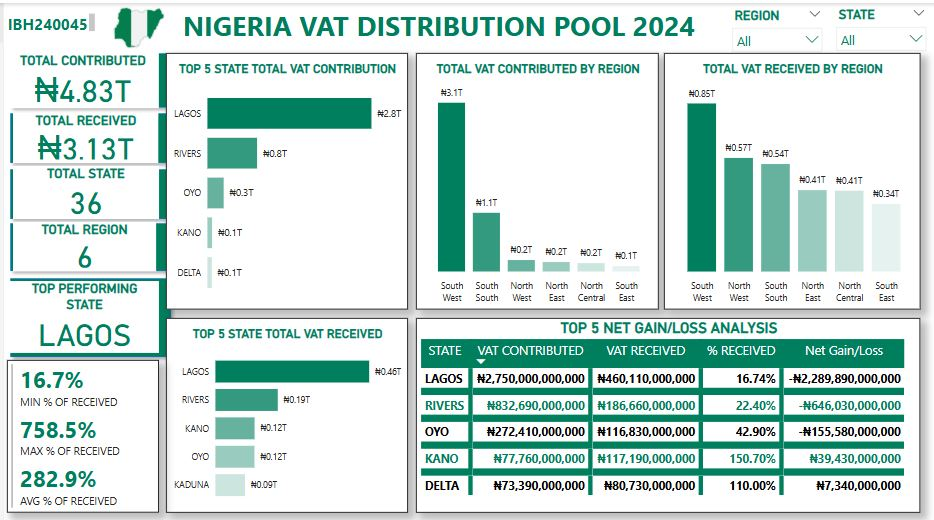

What the dashboard file says about the page in this screenshot:
{"tool":"powerbi","page":{"name":"Page 1","canvas":[1280,720],"ordinal":0},"visuals":[{"type":"image","box":[129.6,0,110.9,67.7],"z":0},{"type":"group","id":"g1","title":"Group 1","box":[0,60.5,239,92.2],"z":1000},{"type":"textbox","box":[240.5,0,751.7,67.7],"z":2000},{"type":"slicer","fields":{"Values":["STATE VAT POOL.STATE"]},"box":[1136.2,0,144,69.1],"z":3000},{"type":"slicer","fields":{"Values":["STATE VAT POOL.REGION"]},"box":[992.2,1.4,144,67.7],"z":4000},{"type":"group","id":"g2","title":"Group 2","box":[0,60.5,239,92.2],"z":4001,"group":"g1"},{"type":"shape","box":[0,60.5,239,92.2],"z":5000,"group":"g2"},{"type":"group","id":"g3","title":"Group 3","box":[0,142.6,239,86.4],"z":5000},{"type":"shape","box":[0,142.6,238.2,85.9],"z":5000,"group":"g3"},{"type":"card","title":"TOTAL CONTRIBUTED","fields":{"Values":["Sum(STATE VAT POOL.CONTRIBUTED)"]},"box":[10.3,69.2,202.9,72.9],"z":5500,"group":"g2"},{"type":"card","title":"TOTAL RECEIVED","fields":{"Values":["Sum(STATE VAT POOL.RECEIVED)"]},"box":[12,150.8,200.5,69.4],"z":6000,"group":"g3"},{"type":"group","id":"g4","title":"Group 4","box":[0,220.3,239,86.4],"z":6000},{"type":"group","id":"g5","title":"Group 5","box":[0,295.2,236.2,83.5],"z":7000},{"type":"shape","box":[0,295.2,235.1,83.1],"z":7000,"group":"g5"},{"type":"shape","box":[0,220.3,238.5,86],"z":8000,"group":"g4"},{"type":"card","title":"TOTAL REGION","fields":{"Values":["Count(STATE VAT POOL.REGION)"]},"box":[12.4,302.4,196.8,68],"z":8000,"group":"g5"},{"type":"group","id":"g6","title":"Group 6","box":[0,370.1,239,125.3],"z":8000},{"type":"shape","box":[0,370.1,239,125.9],"z":8000,"group":"g6"},{"type":"textbox","box":[0,10.1,129.6,36],"z":9000},{"type":"card","title":"TOTAL STATE","fields":{"Values":["Count(STATE VAT POOL.STATE)"]},"box":[12,224.2,200.8,73],"z":9000,"group":"g4"},{"type":"card","title":"TOP PERFORMING STATE","fields":{"Values":["Min(STATE VAT POOL.STATE)"]},"box":[8.5,383,205,98.7],"z":9000,"group":"g6"},{"type":"clusteredBarChart","title":"TOP 5 STATE TOTAL VAT CONTRIBUTION","fields":{"Category":["STATE VAT POOL.STATE"],"Y":["Sum(STATE VAT POOL.CONTRIBUTED)"]},"box":[223.2,69.1,332.6,352.8],"z":10000},{"type":"clusteredBarChart","title":"TOP 5 STATE TOTAL VAT RECEIVED","fields":{"Y":["Sum(STATE VAT POOL.RECEIVED)"],"Category":["STATE VAT POOL.STATE"]},"box":[223.2,433.4,332.6,267.8],"z":11000},{"type":"clusteredColumnChart","title":"TOTAL VAT CONTRIBUTED BY REGION","fields":{"Category":["STATE VAT POOL.REGION"],"Y":["Sum(STATE VAT POOL.CONTRIBUTED)"]},"box":[567.4,69.1,334.1,352.8],"z":12000},{"type":"clusteredColumnChart","title":"TOTAL VAT RECEIVED BY REGION","fields":{"Y":["Sum(STATE VAT POOL.RECEIVED)"],"Category":["STATE VAT POOL.REGION"]},"box":[908.6,69.1,352.8,352.8],"z":13000},{"type":"multiRowCard","fields":{"Values":["Min(STATE VAT POOL.% OF RECEIVED)","STATE VAT POOL.MAX VAT %","Avg(STATE VAT POOL.% OF RECEIVED)"]},"box":[4.3,491,208.8,210.2],"z":14000},{"type":"tableEx","title":"TOP 5 NET GAIN/LOSS ANALYSIS","fields":{"Values":["STATE VAT POOL.STATE","Sum(STATE VAT POOL.CONTRIBUTED)","Sum(STATE VAT POOL.RECEIVED)","Sum(STATE VAT POOL.% OF RECEIVED)","Sum(STATE VAT POOL.Net Gain/Loss)"]},"box":[567.4,433.4,694.1,267.8],"z":14001}]}

Visuals, with their boxes in screenshot pixels (x1, y1, x2, y2), scaled from the page's 1280x720 canvas onto the 934x520 screenshot:
image: crop(95, 0, 175, 49)
"Group 1" group: crop(0, 44, 174, 110)
textbox: crop(175, 0, 724, 49)
slicer - STATE VAT POOL.STATE: crop(829, 0, 933, 50)
slicer - STATE VAT POOL.REGION: crop(724, 1, 829, 50)
"Group 2" group: crop(0, 44, 174, 110)
shape: crop(0, 44, 174, 110)
"Group 3" group: crop(0, 103, 174, 165)
shape: crop(0, 103, 174, 165)
"TOTAL CONTRIBUTED" card: crop(8, 50, 156, 103)
"TOTAL RECEIVED" card: crop(9, 109, 155, 159)
"Group 4" group: crop(0, 159, 174, 222)
"Group 5" group: crop(0, 213, 172, 274)
shape: crop(0, 213, 172, 273)
shape: crop(0, 159, 174, 221)
"TOTAL REGION" card: crop(9, 218, 153, 268)
"Group 6" group: crop(0, 267, 174, 358)
shape: crop(0, 267, 174, 358)
textbox: crop(0, 7, 95, 33)
"TOTAL STATE" card: crop(9, 162, 155, 215)
"TOP PERFORMING STATE" card: crop(6, 277, 156, 348)
"TOP 5 STATE TOTAL VAT CONTRIBUTION" clusteredBarChart: crop(163, 50, 406, 305)
"TOP 5 STATE TOTAL VAT RECEIVED" clusteredBarChart: crop(163, 313, 406, 506)
"TOTAL VAT CONTRIBUTED BY REGION" clusteredColumnChart: crop(414, 50, 658, 305)
"TOTAL VAT RECEIVED BY REGION" clusteredColumnChart: crop(663, 50, 920, 305)
multiRowCard - Min(STATE VAT POOL.% OF RECEIVED) x STATE VAT POOL.MAX VAT %: crop(3, 355, 155, 506)
"TOP 5 NET GAIN/LOSS ANALYSIS" tableEx: crop(414, 313, 921, 506)
